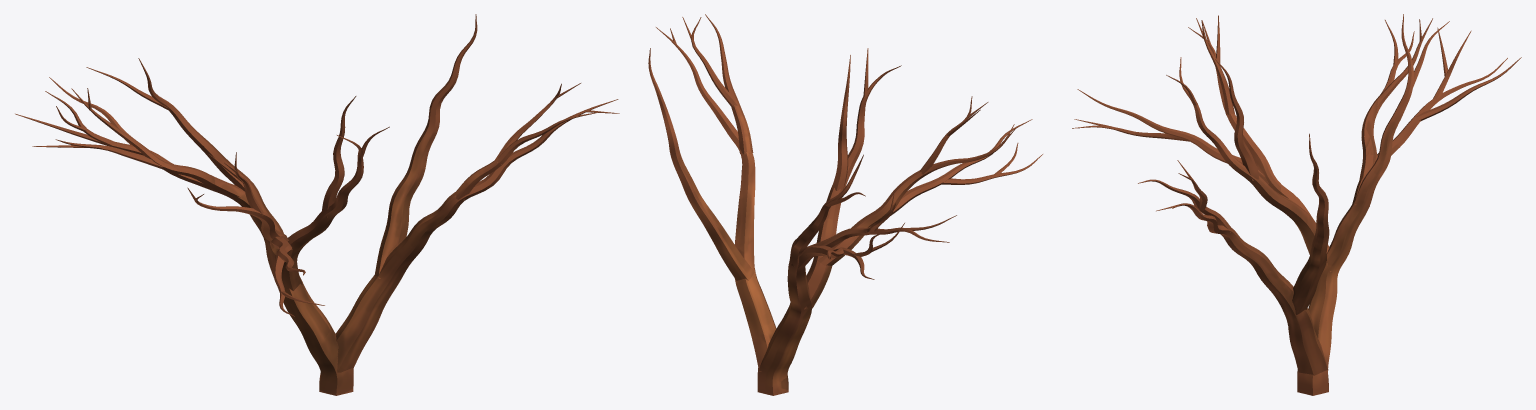
The model's file is TreePlaceholder 1.fbx.
3 renders of one model, left to right at view 1: azimuth 30°, elevation 25°; view 2: azimuth 150°, elevation 25°; view 3: azimuth 270°, elevation 25°, orthographic. The views are drawn at different scales.
Visible parts, largest first — view 1: tree.001; view 2: tree.001; view 3: tree.001.
Part boxes in pixels (x1,y1,x2,y2): tree.001: (15,14,619,395); tree.001: (648,14,1042,395); tree.001: (1072,14,1521,395).
Bounding box in the file's own units: 839 × 600 × 772.
Materials: 1 (1 with a texture image).
